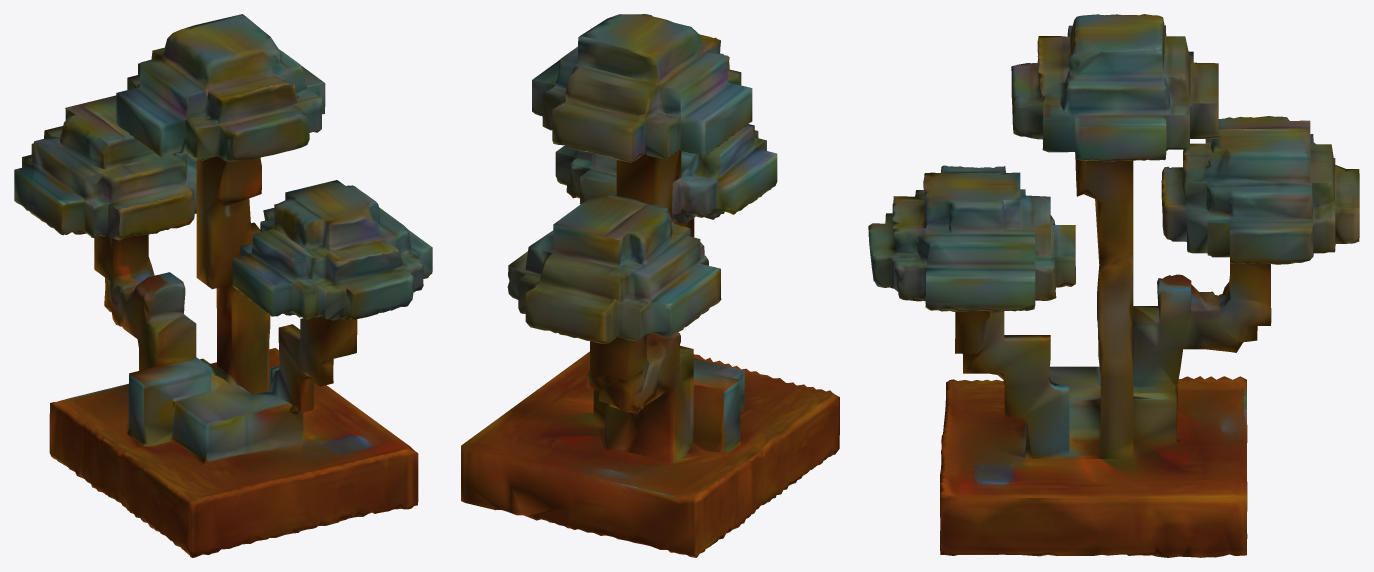
Rendered from Nutriente.fbx.
3 renders of one model, left to right at view 1: azimuth 30°, elevation 25°; view 2: azimuth 150°, elevation 25°; view 3: azimuth 270°, elevation 25°, orthographic. The views are drawn at different scales.
Parts seen in each view (by area): view 1: tripo_node_9c9e86e8; view 2: tripo_node_9c9e86e8; view 3: tripo_node_9c9e86e8.
Boxes of the visible parts, x1,y1,x2,y2 form: tripo_node_9c9e86e8: [14, 14, 432, 557]; tripo_node_9c9e86e8: [461, 14, 839, 557]; tripo_node_9c9e86e8: [868, 14, 1359, 557].
Size of the model in its own units: 0.5732 by 0.9999 by 0.9492.
Materials: 1 (1 with a texture image).
